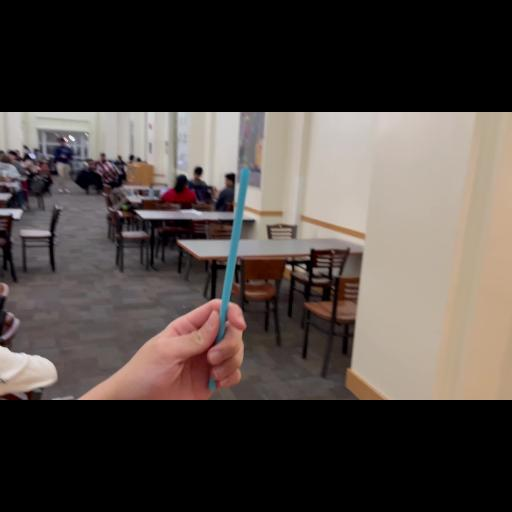straw: (210, 170, 248, 390)
